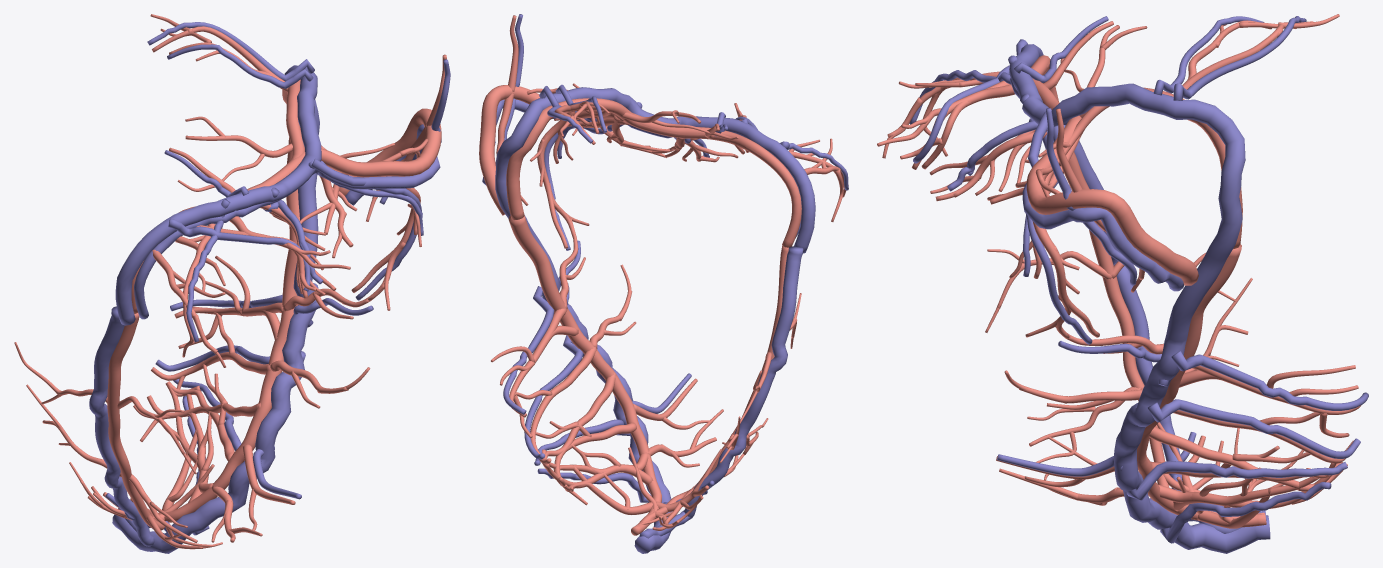
File: vessels_41.glb
The picture shows the model from 3 angles, left to right: view 1: azimuth 30°, elevation 25°; view 2: azimuth 150°, elevation 25°; view 3: azimuth 270°, elevation 25°; orthographic projection. The views are drawn at different scales.
Visible parts, largest first — view 1: Renderer Node; view 2: Renderer Node; view 3: Renderer Node.
Part boxes in pixels (x1=…): Renderer Node: x1=14, y1=14, x2=450, y2=553; Renderer Node: x1=479, y1=14, x2=848, y2=553; Renderer Node: x1=877, y1=14, x2=1368, y2=553.
Size of the model in its own units: 90.19 by 116 by 90.29.
